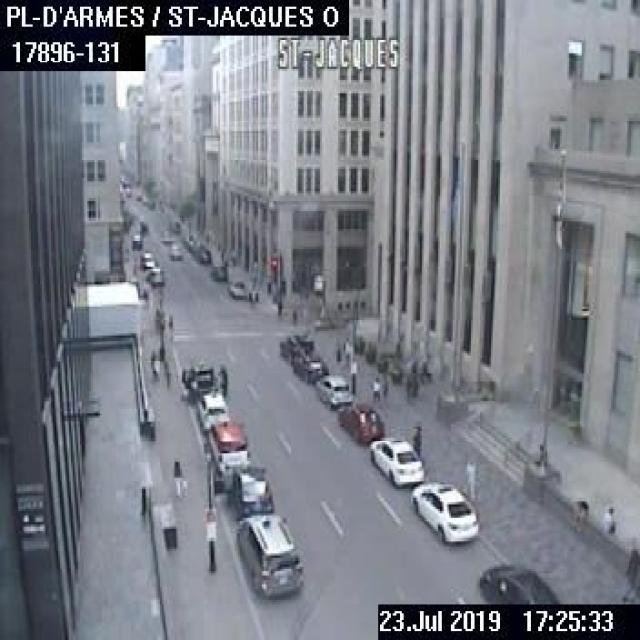pedestrian: (171, 453, 187, 498), (570, 497, 587, 531), (602, 504, 616, 544), (464, 458, 476, 496), (626, 546, 638, 584), (534, 442, 546, 476), (411, 422, 422, 456), (215, 364, 226, 398), (147, 348, 159, 378), (244, 278, 258, 302), (342, 335, 352, 365), (272, 293, 284, 318), (371, 374, 379, 404), (332, 336, 340, 364), (289, 302, 298, 320), (381, 378, 387, 403)
vehicle: (231, 512, 304, 596), (408, 480, 476, 542), (476, 558, 560, 602), (369, 436, 422, 484), (205, 419, 248, 472), (230, 463, 274, 514), (336, 402, 383, 441), (215, 450, 251, 491), (179, 359, 215, 399), (196, 390, 229, 431), (315, 372, 351, 407), (290, 352, 328, 383), (278, 333, 314, 360), (227, 279, 245, 298), (145, 266, 164, 284), (209, 263, 225, 280), (140, 250, 154, 266), (195, 246, 209, 261), (167, 242, 180, 258), (160, 229, 172, 241), (131, 234, 141, 247)
